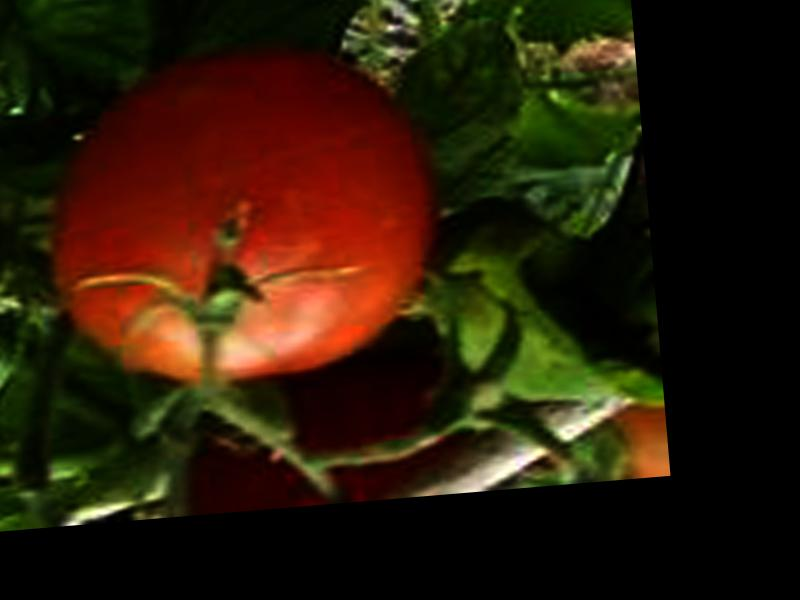Tomato: (40, 44, 444, 396)
